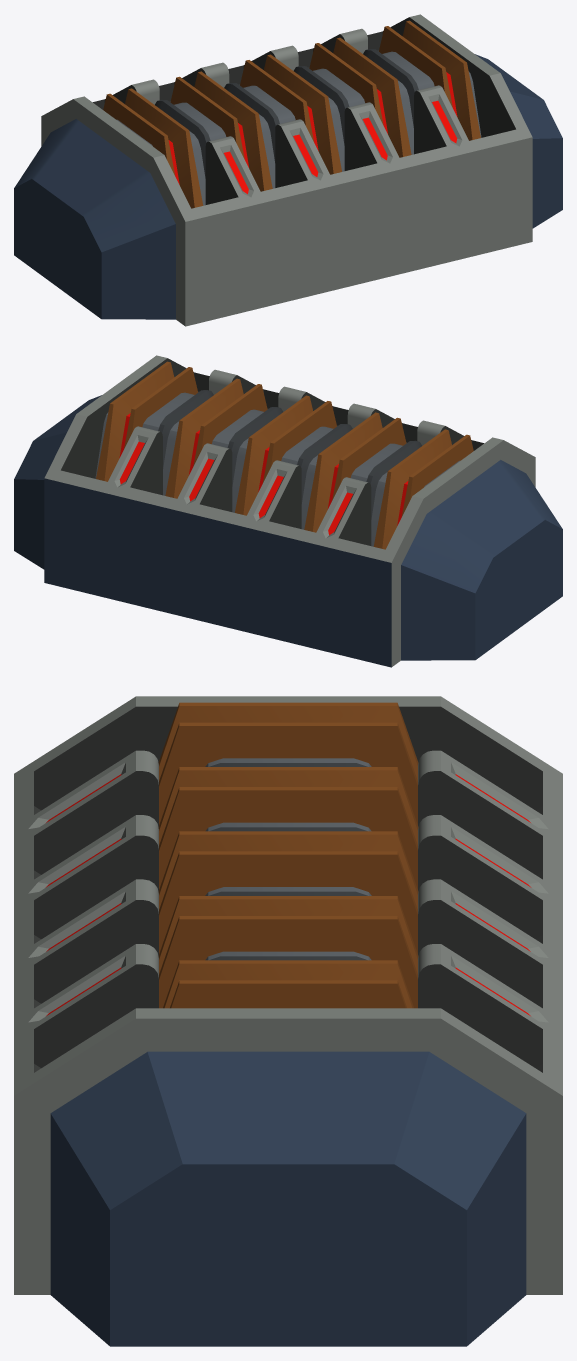
Rendered from Horizontal Weakpoint.fbx.
3 views of the same model, one above another, from view 1: azimuth 30°, elevation 25°; view 2: azimuth 150°, elevation 25°; view 3: azimuth 270°, elevation 25° (orthographic). The views are drawn at different scales.
Parts seen in each view (by area): view 1: Weakpoint Flat; view 2: Weakpoint Flat; view 3: Weakpoint Flat.
Boxes of the visible parts, x1,y1,x2,y2 form: Weakpoint Flat: (14,14,562,326); Weakpoint Flat: (14,355,562,667); Weakpoint Flat: (14,696,562,1346).
Bounding box in the file's own units: 82.5 × 45 × 26.3.
